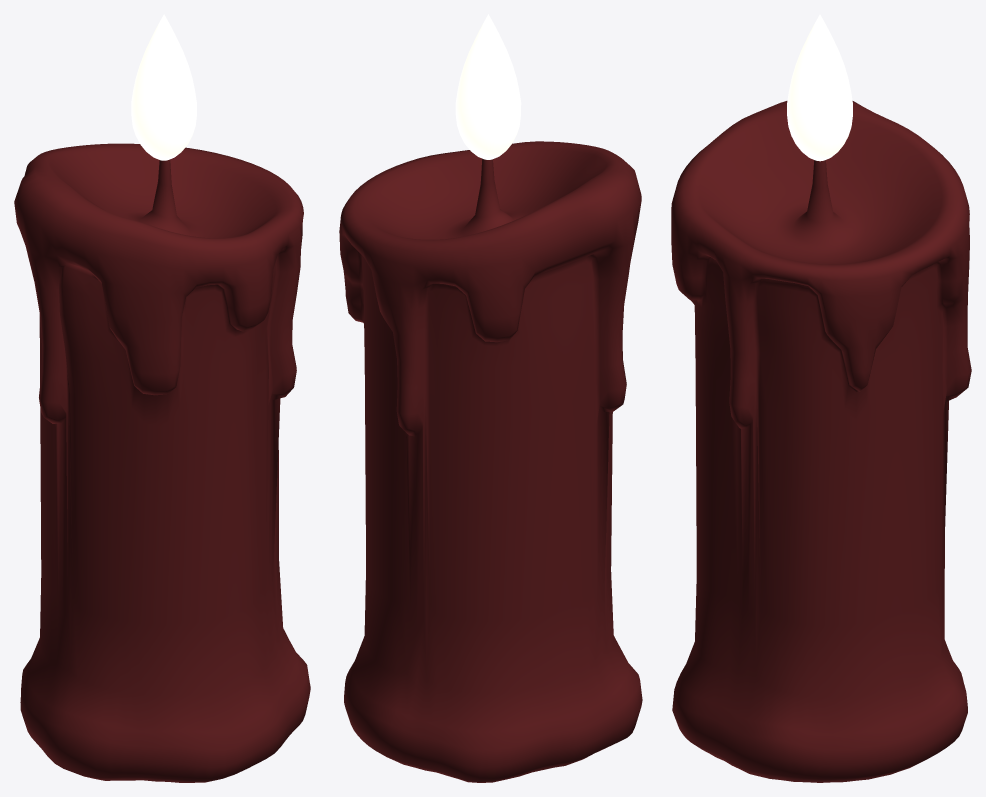
File: Kerze_groß.fbx
The picture shows the model from 3 angles, left to right: view 1: azimuth 30°, elevation 25°; view 2: azimuth 150°, elevation 25°; view 3: azimuth 270°, elevation 25°; orthographic projection.
Parts seen in each view (by area): view 1: Kerze_groß_komplett; view 2: Kerze_groß_komplett; view 3: Kerze_groß_komplett.
Boxes of the visible parts, box(x1,y1,x2,y2) form: Kerze_groß_komplett: box(14, 14, 310, 782); Kerze_groß_komplett: box(339, 14, 642, 782); Kerze_groß_komplett: box(671, 14, 971, 782).
Bounding box in the file's own units: 280 × 721 × 272.
